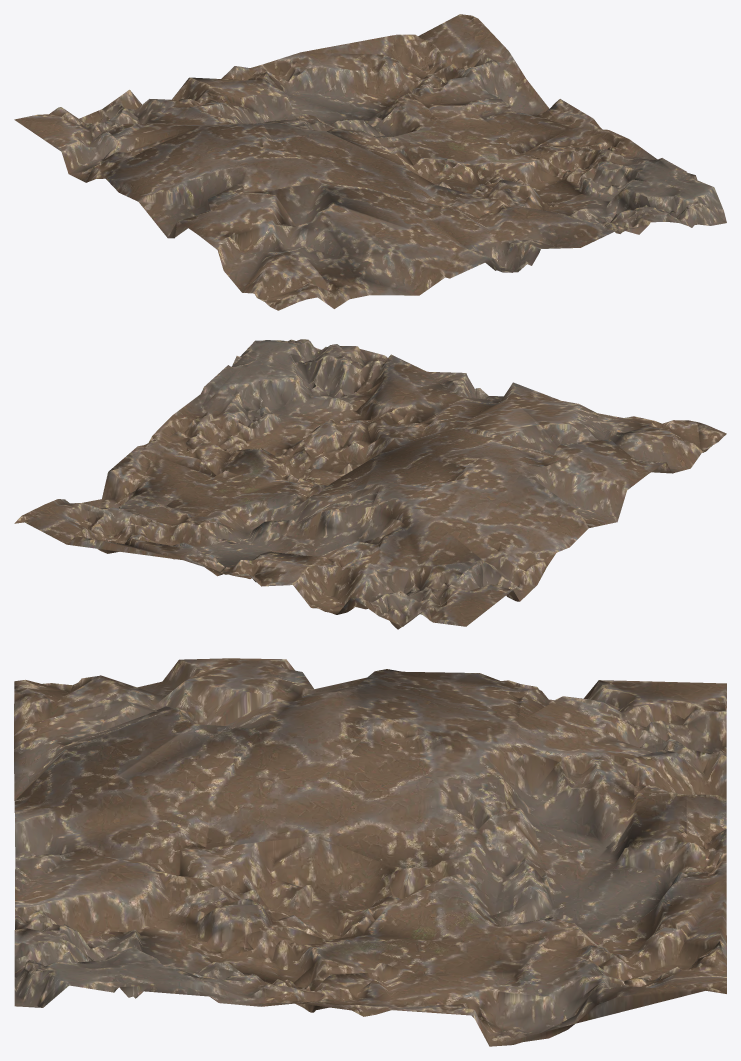
The model's file is rocks.glb.
3 renders of one model, top to bottom at view 1: azimuth 30°, elevation 25°; view 2: azimuth 150°, elevation 25°; view 3: azimuth 270°, elevation 25°, orthographic. The views are drawn at different scales.
Parts seen in each view (by area): view 1: Plane__0; view 2: Plane__0; view 3: Plane__0.
Part boxes in pixels (left/top/right/bottom): Plane__0: left=14, top=14, right=726, bottom=310; Plane__0: left=14, top=339, right=726, bottom=629; Plane__0: left=14, top=658, right=726, bottom=1046.
Bounding box in the file's own units: 8.72 × 1.56 × 8.73.
Materials: 1 (1 with a texture image).
